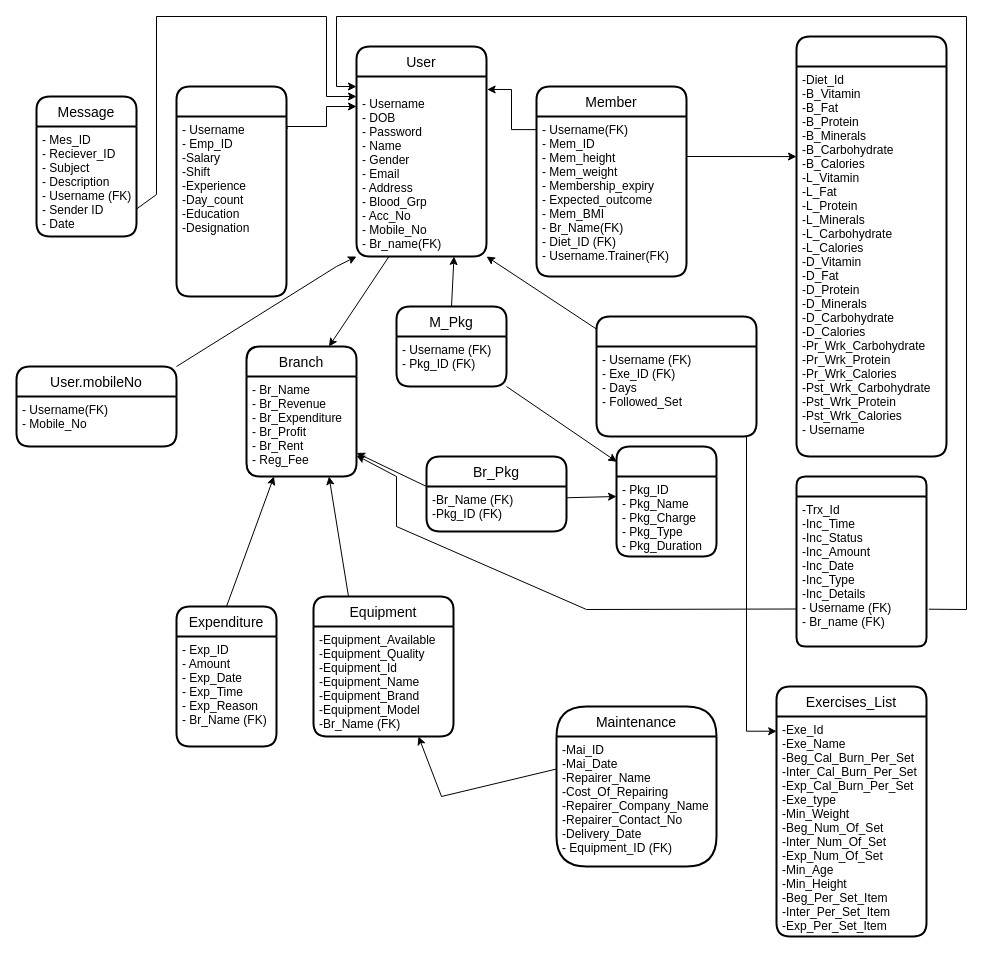
Image size: 983x953. Some labels were removed from this diagram. The box of each missing label's shape, as (x1, y1, x2, y2) in pixels:
Diet_Chart: (795, 35, 947, 457)
Employee: (175, 85, 287, 297)
Income: (795, 475, 927, 647)
Package: (615, 445, 717, 557)
Routine: (595, 315, 757, 437)
